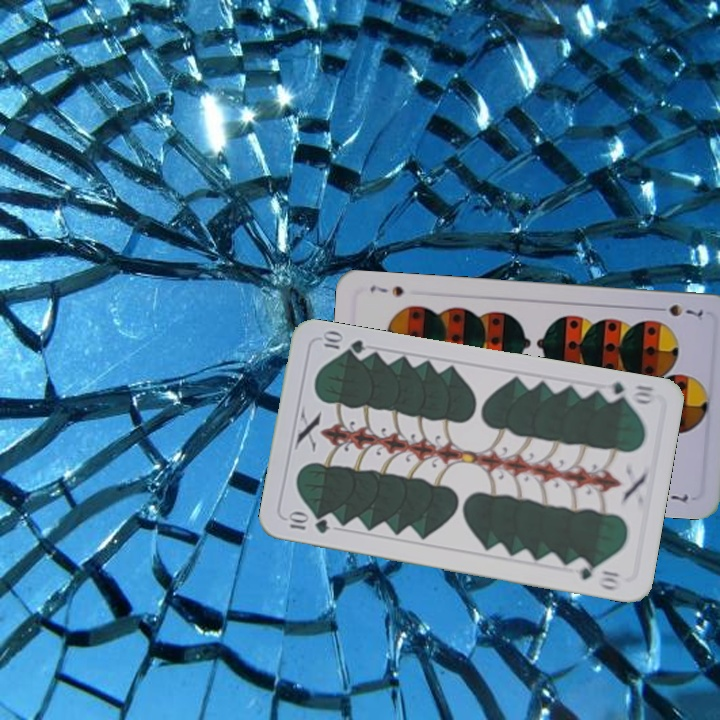G10: (598, 378, 658, 407), (282, 510, 332, 536)
S7: (650, 300, 705, 320)
